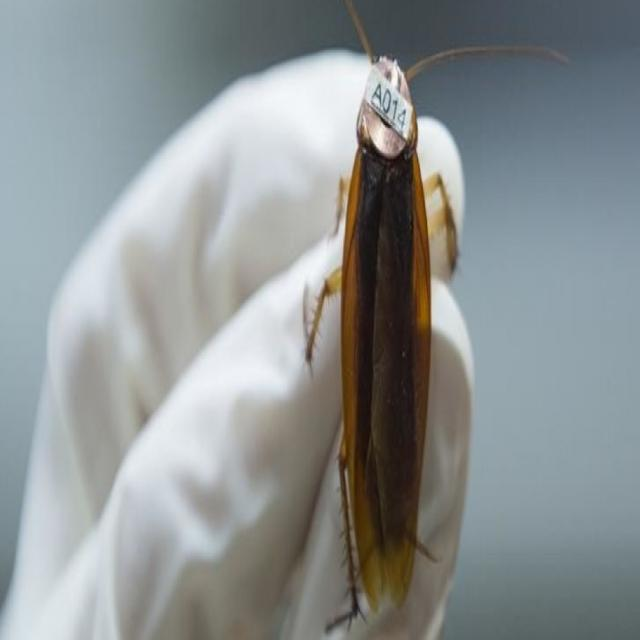Cockroach: (296, 0, 519, 640)
